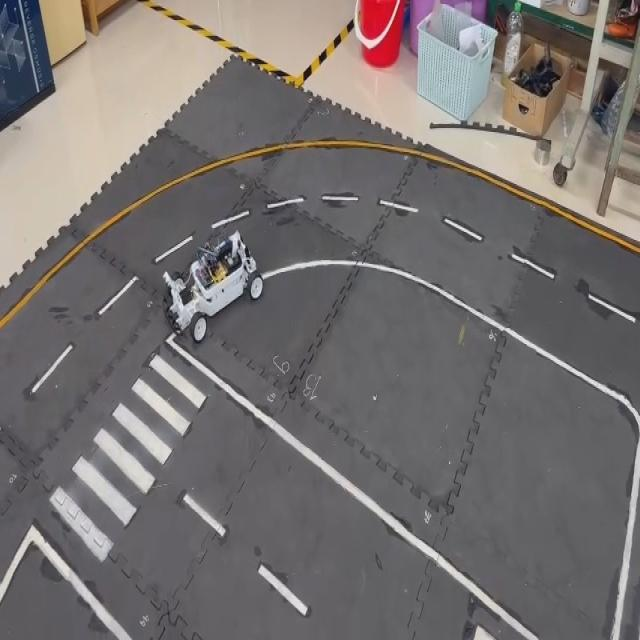SiCo-CAR: (161, 226, 264, 342)
